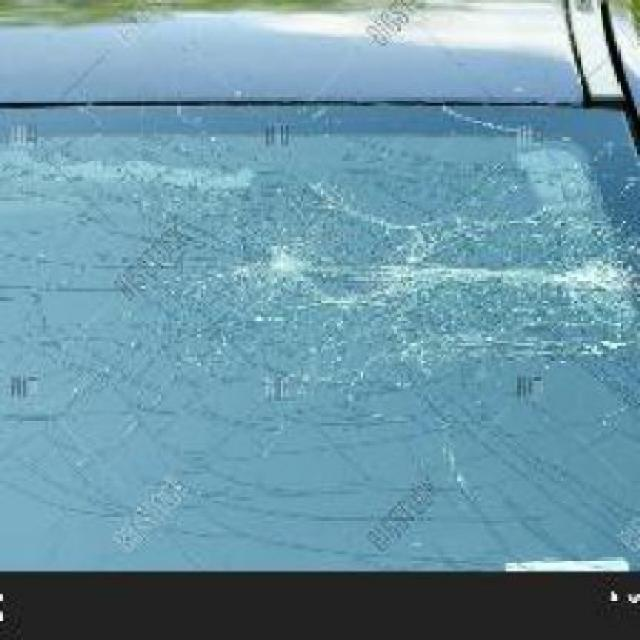damaged-windscreen: (1, 103, 640, 573)
